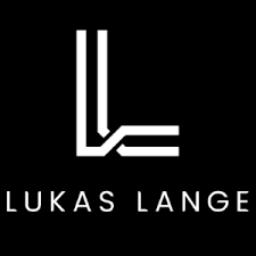a: (72, 188, 92, 214)
e: (236, 189, 252, 215)
g: (207, 188, 233, 218)
k: (50, 190, 66, 218)
l: (3, 184, 17, 216)
n: (180, 187, 202, 215)
s: (98, 188, 114, 218)
u: (24, 190, 44, 216)
